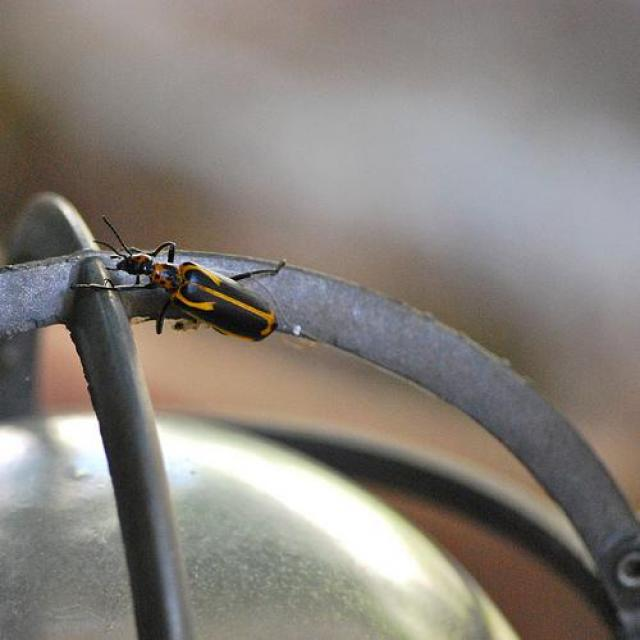BlisterBeetle-Adult-: (72, 210, 309, 353)
